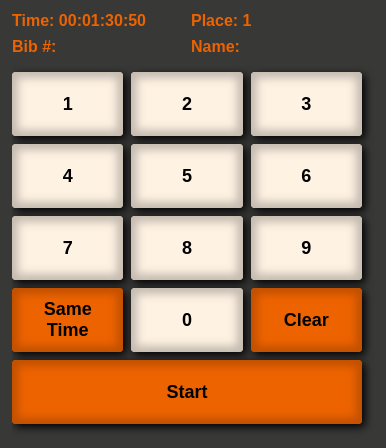
Test case: Timer Component › shows 'Not Found' when fetchRecord returns null
Click the button "5". click: (187, 176)
box: top-left (131, 144), bottom-right (243, 208)
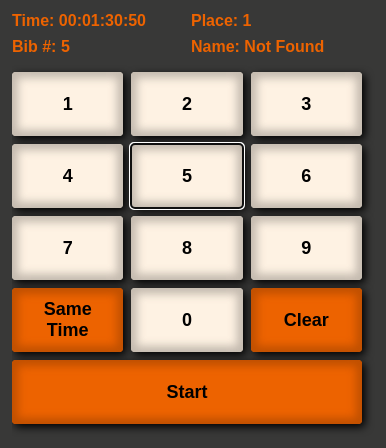
Now the heading "Name: Not Found" is shown, box top-left (191, 38), bottom-right (324, 55)
